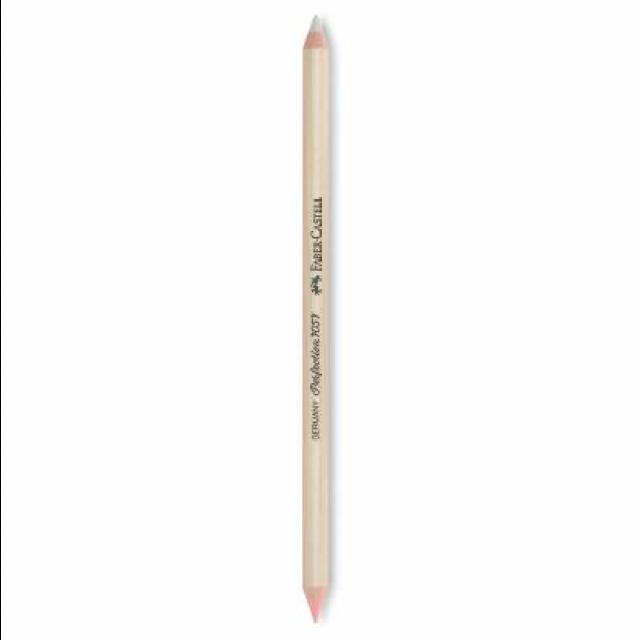pencil: (298, 566, 336, 630), (296, 10, 332, 64)
